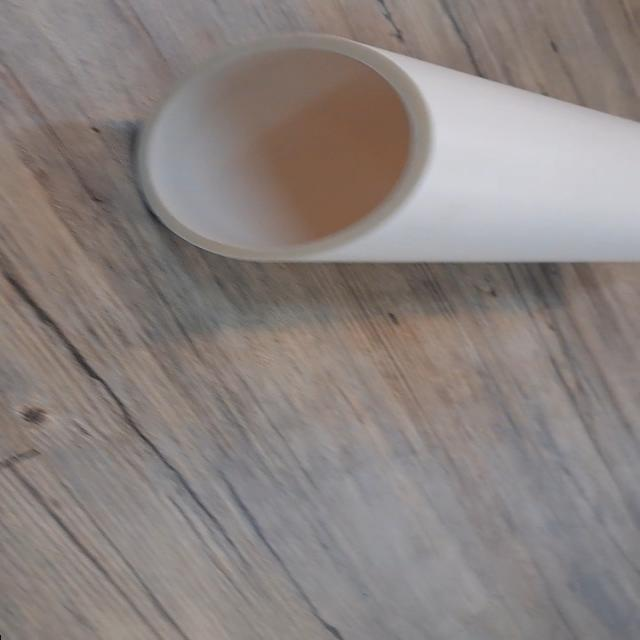CORAL: (128, 22, 640, 282)
